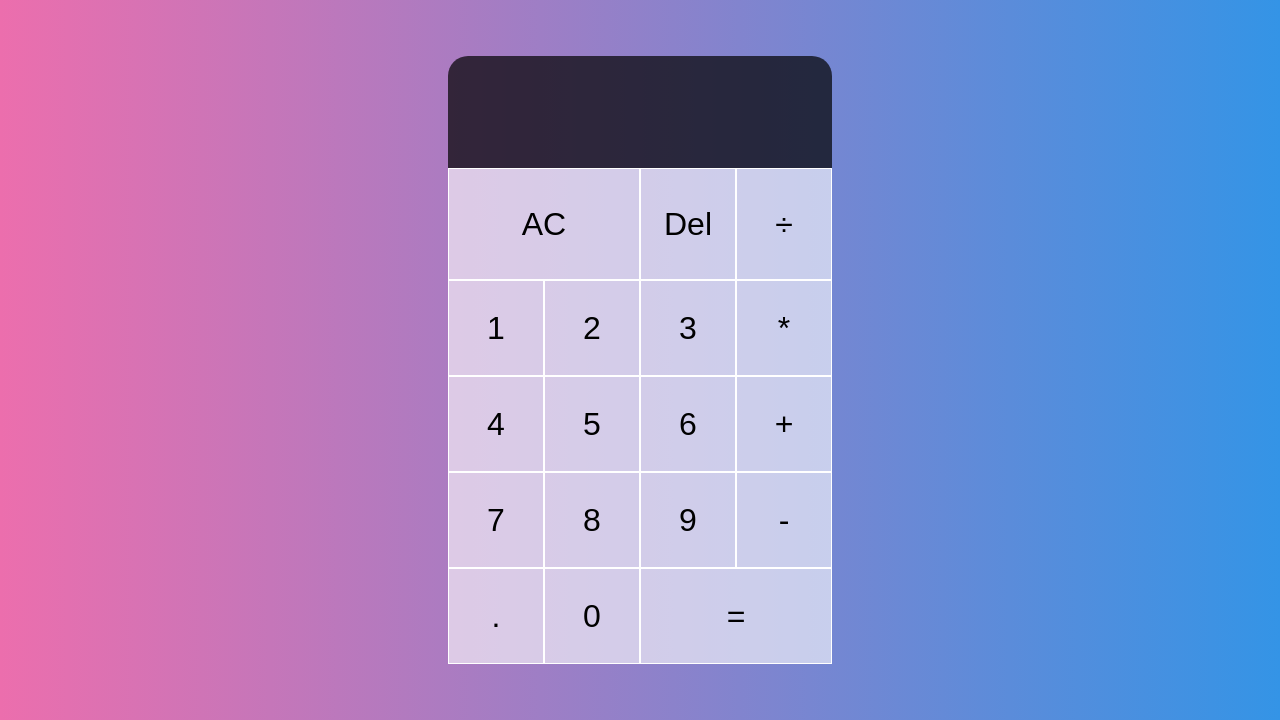
Test: When press › Digit Button › should Add the number to the current section in the output
Click the button "1". click: click(496, 328)
box: x1=448 y1=280 x2=544 y2=376
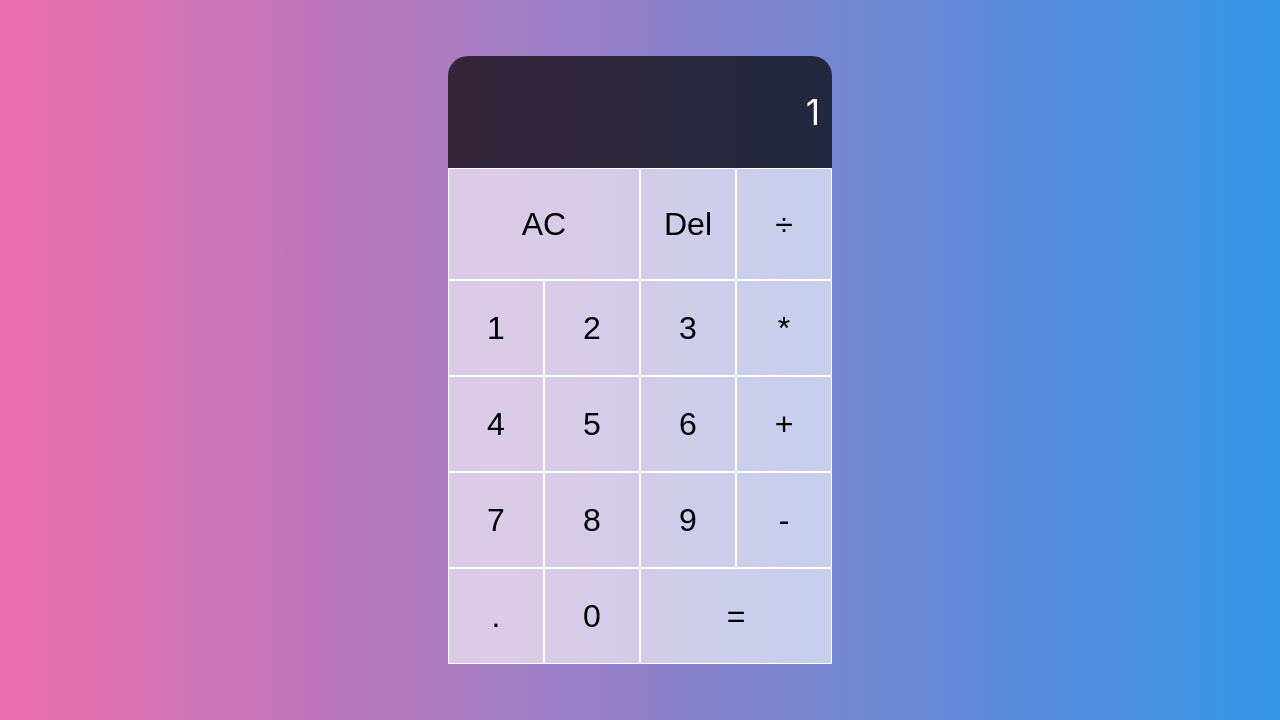
Check: the text "1" is shown, box x1=806 y1=91 x2=820 y2=133
Click the button "2". click: click(592, 328)
box: x1=544 y1=280 x2=640 y2=376
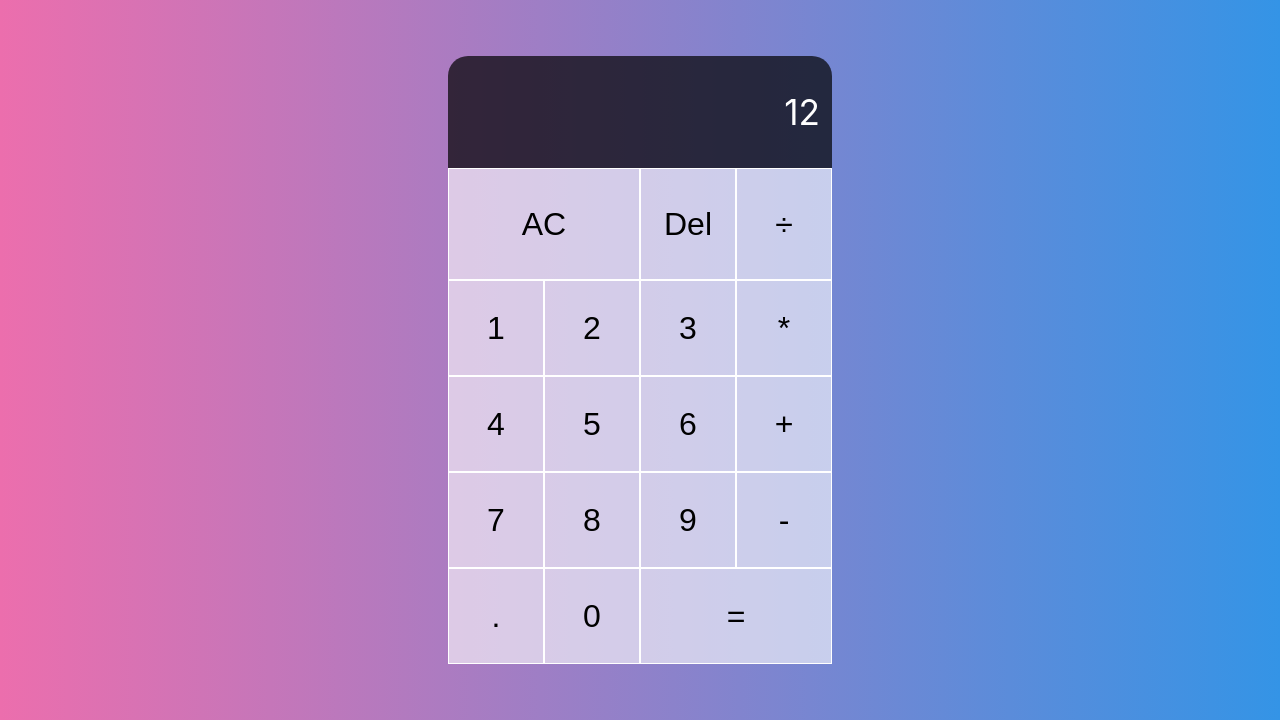
Check: the text "12" is shown, box x1=784 y1=91 x2=820 y2=133
